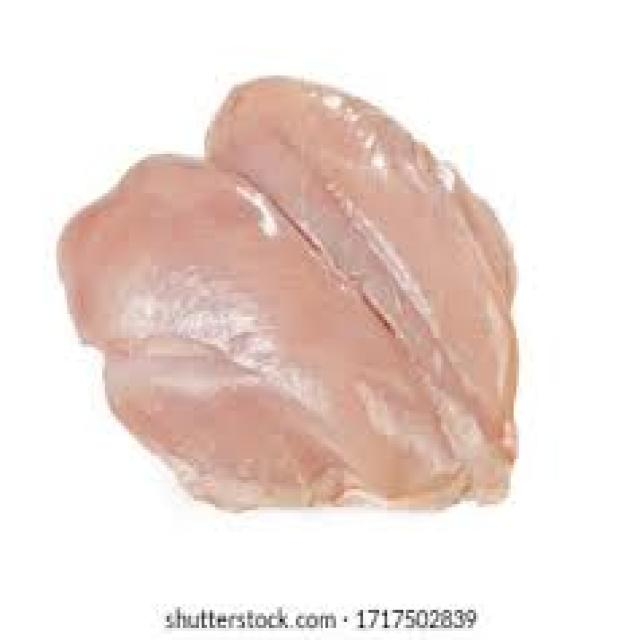Coriander: (54, 74, 524, 516)
